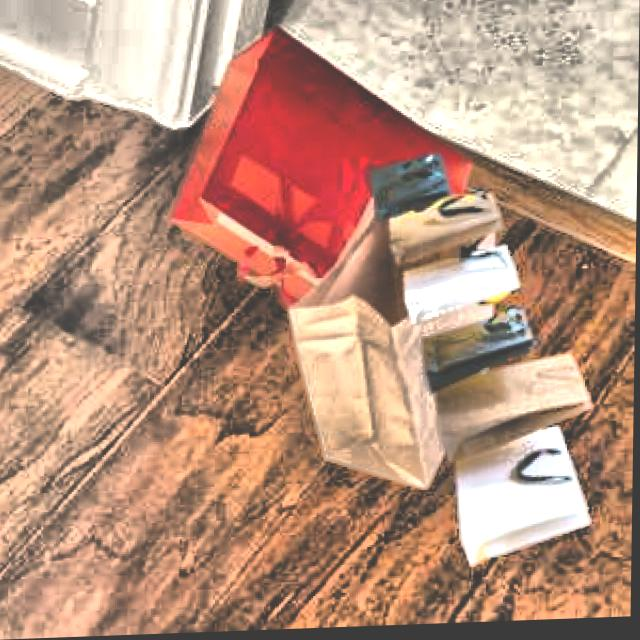Paper-bag: (179, 22, 505, 322), (275, 173, 531, 513), (379, 150, 602, 529)
